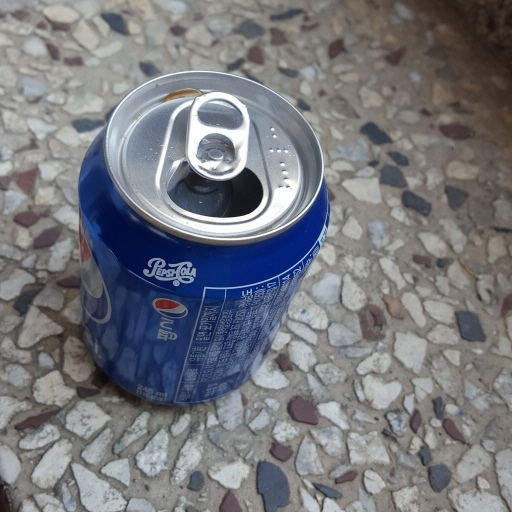Metal_0: (70, 68, 330, 405)
